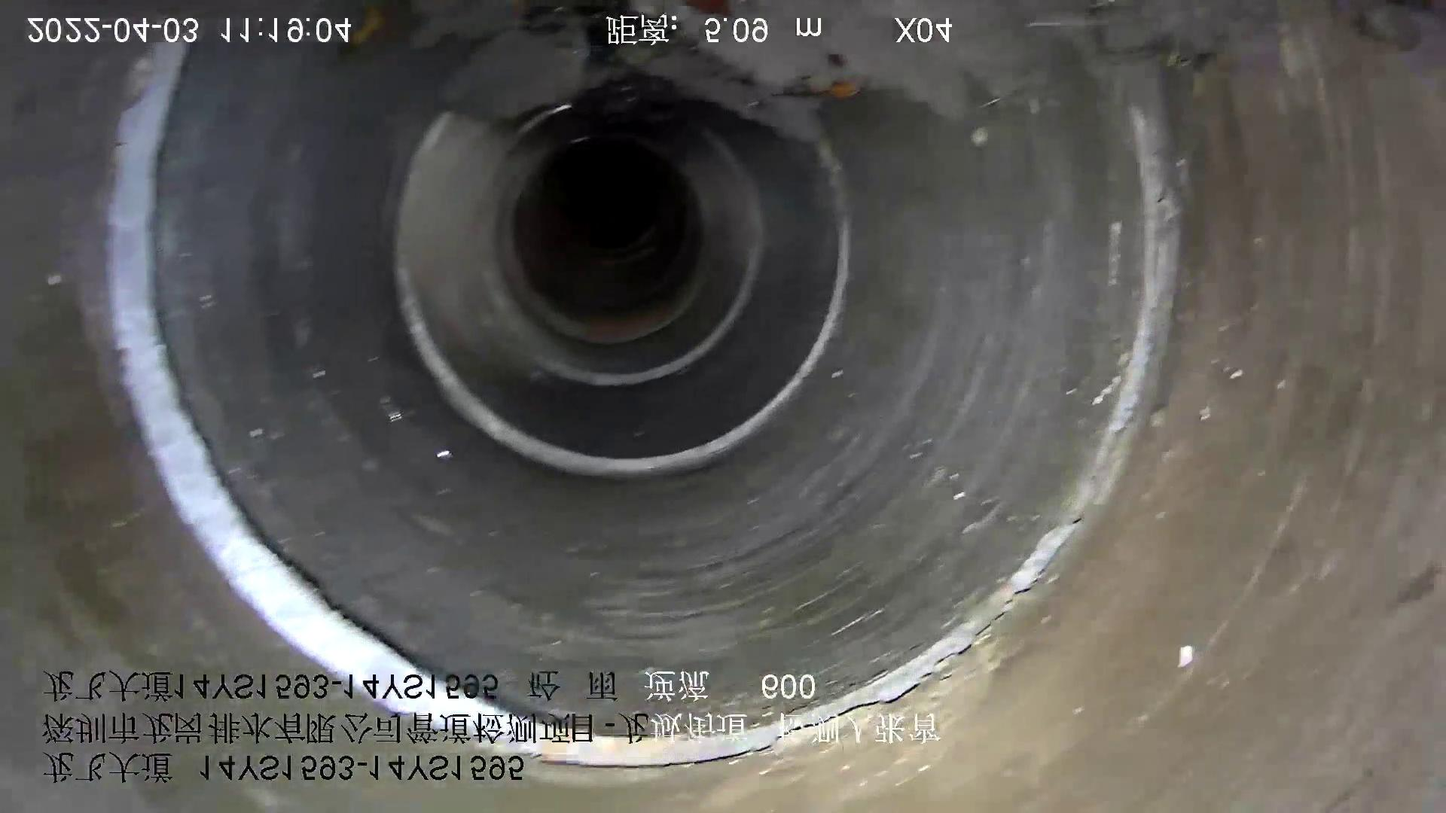CJ: (446, 1, 1058, 142)
CKTJ: (496, 93, 1181, 767), (105, 46, 519, 731), (392, 113, 850, 477), (542, 139, 764, 385)
